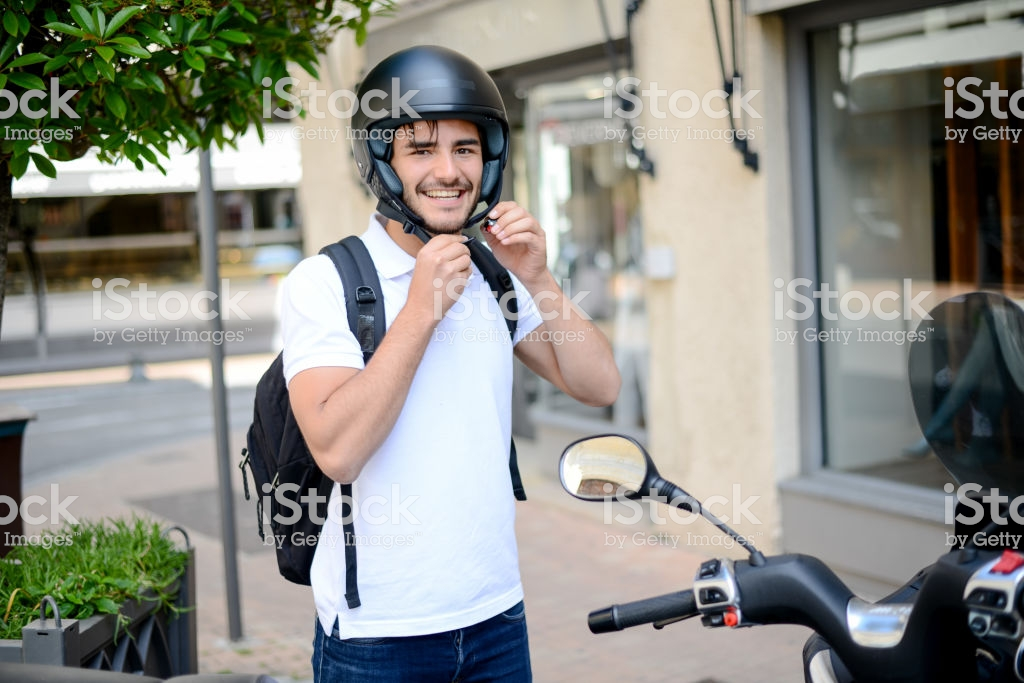helmet: (348, 42, 512, 158)
